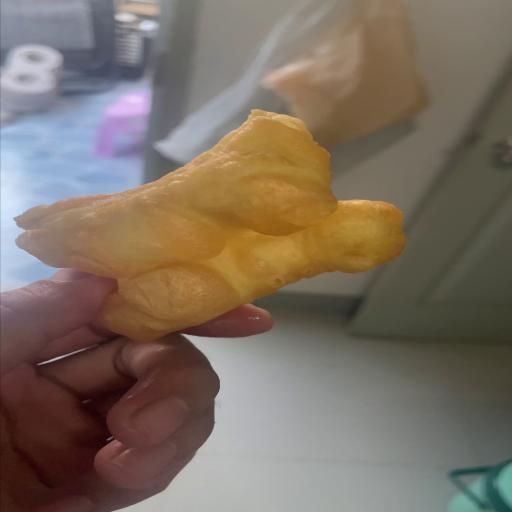street_golden_good: (15, 111, 404, 340)
